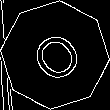O_SE: (22, 22, 88, 88)
